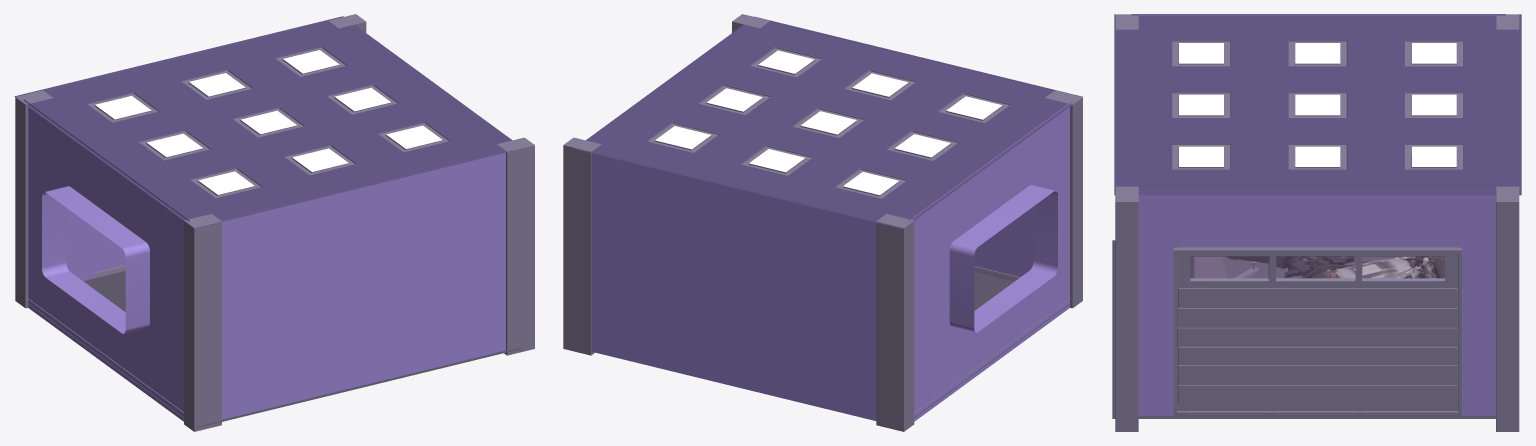
Rendered from 04P_materialy-pro-udrzitelnost_compressed.glb.
3 views of the same model, side by side, from view 1: azimuth 30°, elevation 25°; view 2: azimuth 150°, elevation 25°; view 3: azimuth 270°, elevation 25° (orthographic). The views are drawn at different scales.
Parts seen in each view (by area): view 1: Cube.005, Cube.1458, Cube.1449, Cube.006; view 2: Cube.005, Cube.1458, Cube.1449, Cube.006; view 3: Cube.1458, Cube.1449, Cube.1455, Cube.1640, Cube.1480, Cube.006, Cylinder001.001, Cube.005.
Part boxes in pixels (left/top/right/bottom): Cube.005: left=23, top=21, right=505, bottom=421; Cube.1458: left=14, top=16, right=522, bottom=228; Cube.1449: left=15, top=14, right=534, bottom=431; Cube.006: left=27, top=271, right=521, bottom=427; Cube.005: left=591, top=21, right=1073, bottom=421; Cube.1458: left=574, top=16, right=1082, bottom=228; Cube.1449: left=563, top=14, right=1082, bottom=431; Cube.006: left=914, top=271, right=1070, bottom=417; Cube.1458: left=1114, top=14, right=1521, bottom=195; Cube.1449: left=1115, top=14, right=1519, bottom=431; Cube.1455: left=1138, top=191, right=1495, bottom=415; Cube.1640: left=1190, top=257, right=1444, bottom=277; Cube.1480: left=1227, top=256, right=1444, bottom=278; Cube.006: left=1112, top=240, right=1495, bottom=418; Cylinder001.001: left=1190, top=112, right=1415, bottom=278; Cube.005: left=1131, top=14, right=1505, bottom=111.
Size of the model in its own units: 4.46 by 2.41 by 3.86.
9 materials, 1 textured.
